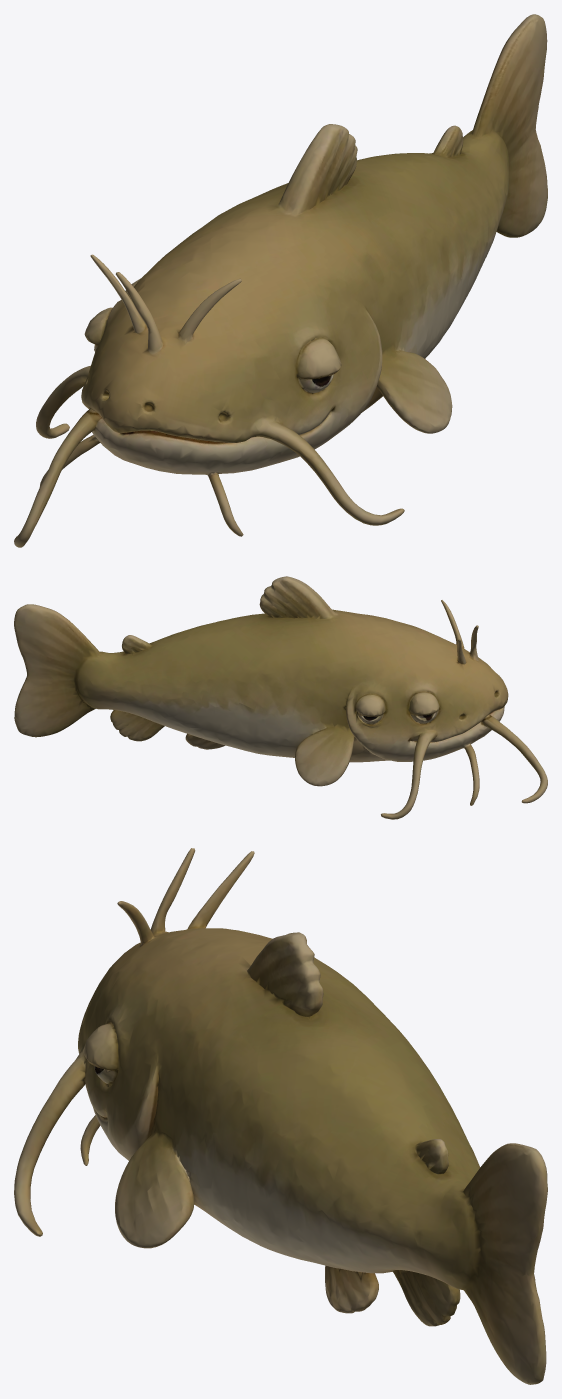
File: nat_fish_trout_v1.glb
3 renders of one model, top to bottom at view 1: azimuth 30°, elevation 25°; view 2: azimuth 150°, elevation 25°; view 3: azimuth 270°, elevation 25°, orthographic. The views are drawn at different scales.
Parts seen in each view (by area): view 1: tripo_node_850099df-7a4f-4d5f-b9a9-ebcef469d285; view 2: tripo_node_850099df-7a4f-4d5f-b9a9-ebcef469d285; view 3: tripo_node_850099df-7a4f-4d5f-b9a9-ebcef469d285.
Boxes of the visible parts, <box> form: tripo_node_850099df-7a4f-4d5f-b9a9-ebcef469d285: <box>14,14,547,547</box>; tripo_node_850099df-7a4f-4d5f-b9a9-ebcef469d285: <box>14,576,547,819</box>; tripo_node_850099df-7a4f-4d5f-b9a9-ebcef469d285: <box>14,848,547,1384</box>.
Bounding box in the file's own units: 0.98 × 0.4142 × 0.5886.
Materials: 1 (1 with a texture image).
